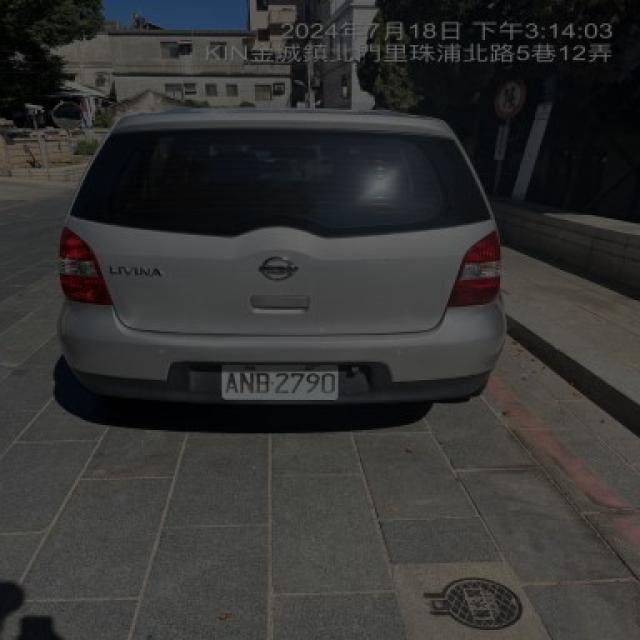Legalparking: (58, 108, 503, 403)
